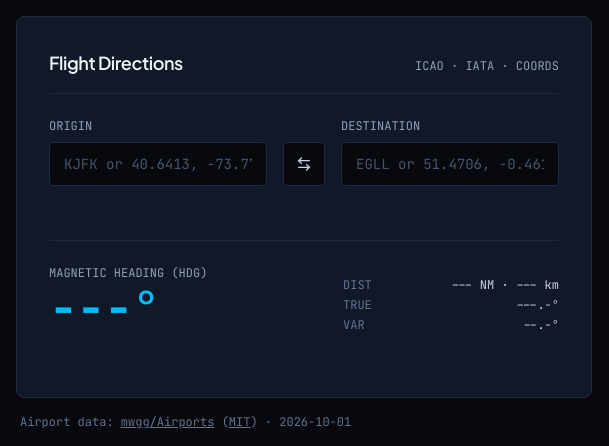
App › invalid location input › names the problem for 48°61'00"N 14°00'00"E and marks it after leaving the field
Later steps or results of the test are not shown.
Type "48°61'00\"N 14°00'00\"E" into the field labelled "ORIGIN".
click(158, 164); type("48°61'00\"N 14°00'00\"E")  # box [49,142,267,186]
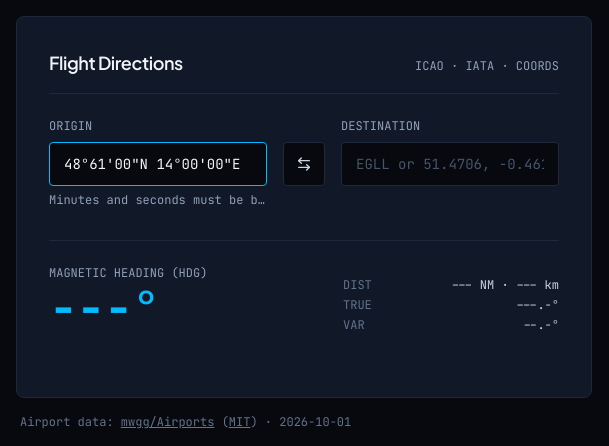
Now the text "Minutes and seconds must be below 60" is shown, box [49,192,267,208]
